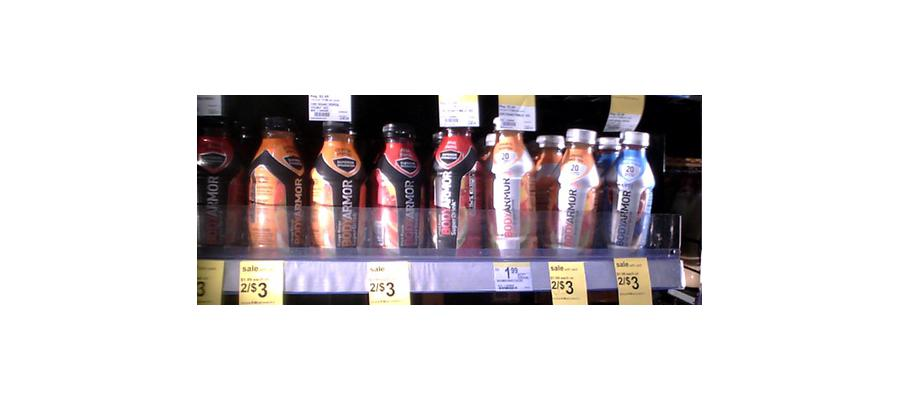bottle: (247, 111, 306, 253), (309, 111, 364, 253), (431, 112, 484, 253), (546, 124, 602, 251), (370, 121, 424, 251), (488, 103, 533, 255), (197, 102, 240, 249), (605, 131, 656, 254)
